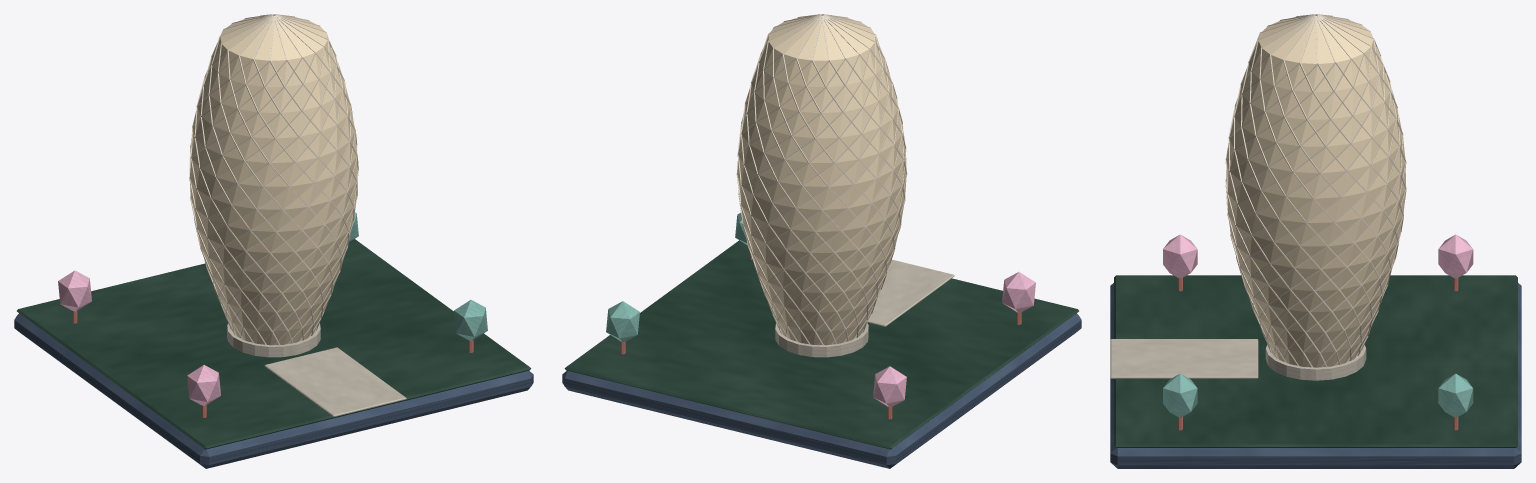
File: the-gherkin-diorama.glb
3 renders of one model, left to right at view 1: azimuth 30°, elevation 25°; view 2: azimuth 150°, elevation 25°; view 3: azimuth 270°, elevation 25°, orthographic. The views are drawn at different scales.
Visible parts, largest first — view 1: the-gherkin; view 2: the-gherkin; view 3: the-gherkin.
Boxes of the visible parts, x1,y1,x2,y2 form: the-gherkin: (14, 14, 533, 468); the-gherkin: (562, 14, 1081, 468); the-gherkin: (1110, 14, 1521, 468).
Bounding box in the file's own units: 10 × 9.93 × 10.
Materials: 1 (1 with a texture image).
